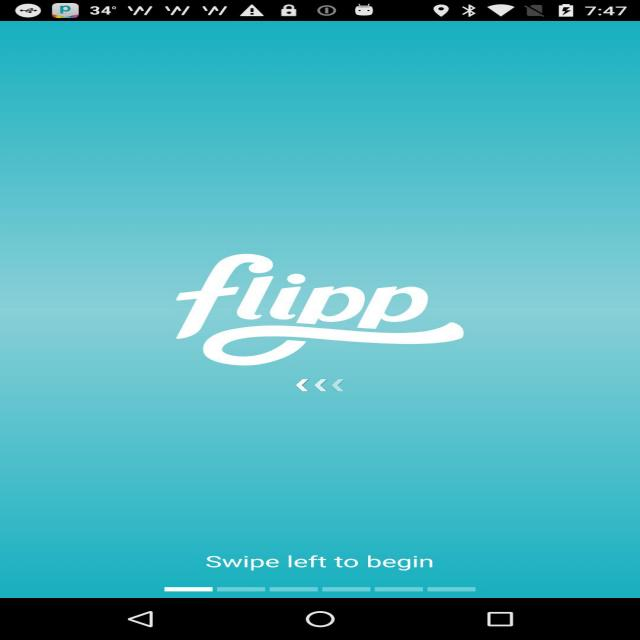icon: (120, 215, 548, 392)
